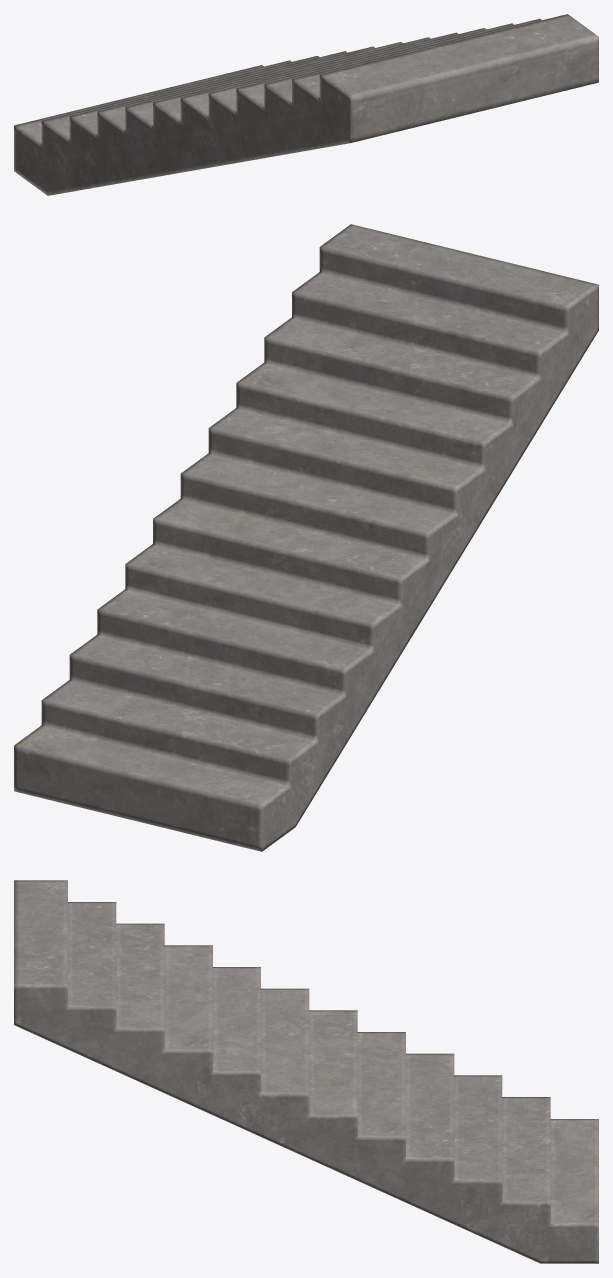
The model's file is Con_ConcreteFloor03.fbx.
The picture shows the model from 3 angles, top to bottom: view 1: azimuth 30°, elevation 25°; view 2: azimuth 150°, elevation 25°; view 3: azimuth 270°, elevation 25°; orthographic projection. The views are drawn at different scales.
Parts seen in each view (by area): view 1: SM_ConcreteFloor03; view 2: SM_ConcreteFloor03; view 3: SM_ConcreteFloor03.
Part boxes in pixels (bbox=[...]): SM_ConcreteFloor03: bbox=[14, 14, 598, 195]; SM_ConcreteFloor03: bbox=[14, 224, 598, 851]; SM_ConcreteFloor03: bbox=[14, 880, 598, 1263].
Size of the model in its own units: 1.7 by 2.1 by 4.
1 material, 1 textured.
